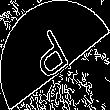P_SE: (30, 24, 80, 86)
